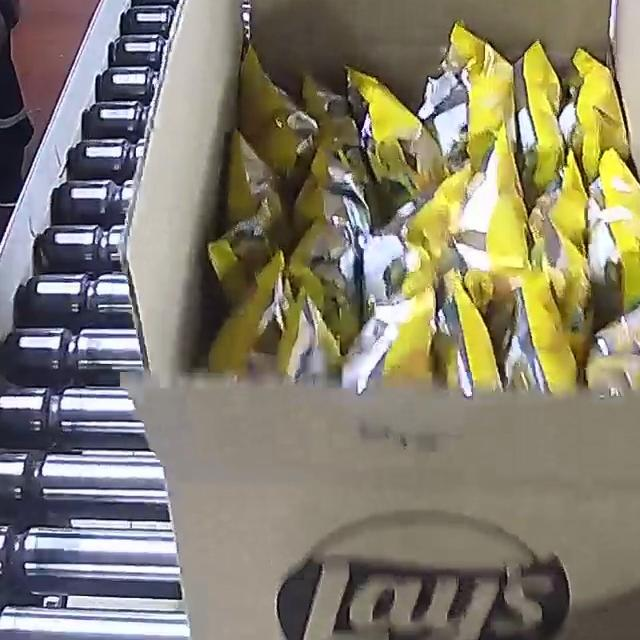salted: (202, 17, 640, 396)
